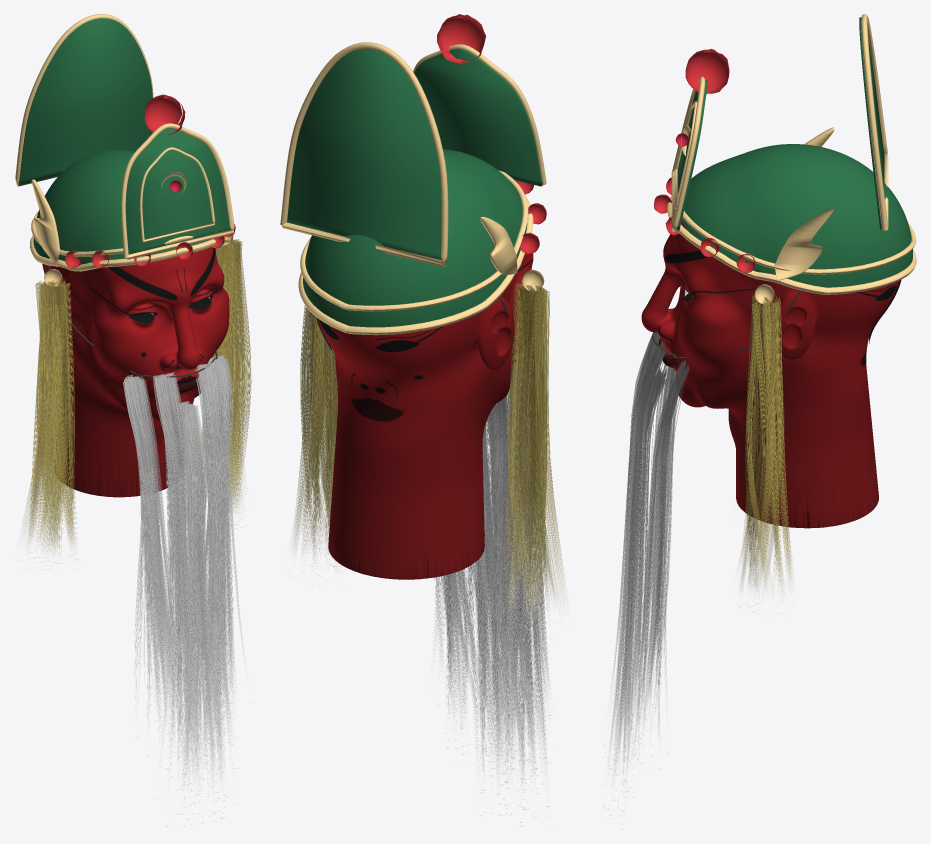
File: head_guanyu.glb
3 renders of one model, left to right at view 1: azimuth 30°, elevation 25°; view 2: azimuth 150°, elevation 25°; view 3: azimuth 270°, elevation 25°, orthographic. The views are drawn at different scales.
Parts seen in each view (by area): view 1: Beard, Face, Kui_Tassel, Kui_Back, Kui_Front, Kui, Kui_Gold, Kui_Pom, Kui_Rim, Kui_Ear-1; view 2: Face, Kui_Back, Beard, Kui_Tassel, Kui, Kui_Front, Kui_Gold, Kui_Pom, Kui_Rim, Kui_Ear-1; view 3: Face, Kui, Beard, Kui_Tassel, Kui_Gold, Kui_Pom, Kui_Rim, Kui_Ear1, Kui_Back, Kui_Front.
Part boxes in pixels (x1,y1,x2,y2): Beard: (123,355,242,826); Face: (43,247,229,497); Kui_Tassel: (22,239,251,563); Kui_Back: (18,18,152,185); Kui_Front: (125,128,231,254); Kui: (33,150,208,264); Kui_Gold: (15,14,234,286); Kui_Pom: (65,94,235,268); Kui_Rim: (30,235,215,271); Kui_Ear-1: (31,179,60,263); Face: (318,253,533,579); Kui_Back: (287,49,446,262); Beard: (434,354,550,826); Kui_Tassel: (292,280,566,622); Kui: (303,149,527,327); Kui_Front: (414,48,542,186); Kui_Gold: (280,42,546,311); Kui_Pom: (437,14,546,253); Kui_Rim: (298,196,533,335); Kui_Ear-1: (479,217,517,274); Face: (641,234,899,528); Kui: (682,144,912,287); Beard: (609,332,689,815); Kui_Tassel: (740,295,793,591); Kui_Gold: (671,14,916,303); Kui_Pom: (654,49,755,272); Kui_Rim: (667,196,916,294); Kui_Ear1: (774,208,834,280); Kui_Back: (859,17,884,229); Kui_Front: (675,80,707,230).
Size of the model in its own units: 0.2631 by 0.7834 by 0.2795.
Materials: 10 (4 with a texture image).
